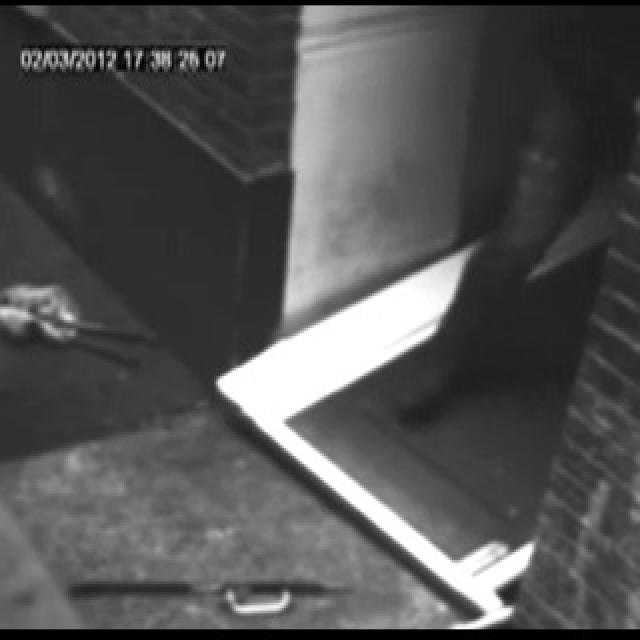thief: (379, 0, 640, 420)
